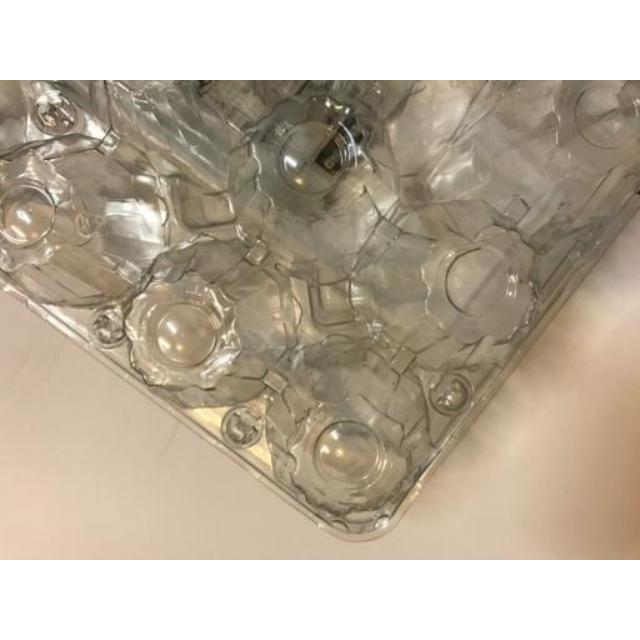plastic: (0, 80, 639, 533)
